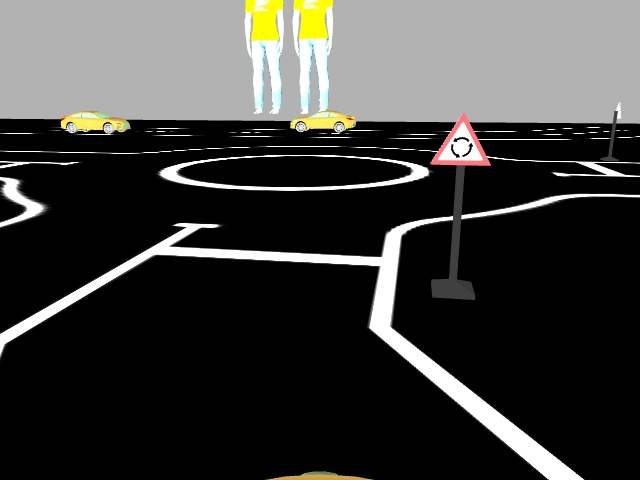Roundabout: (429, 110, 492, 166)
